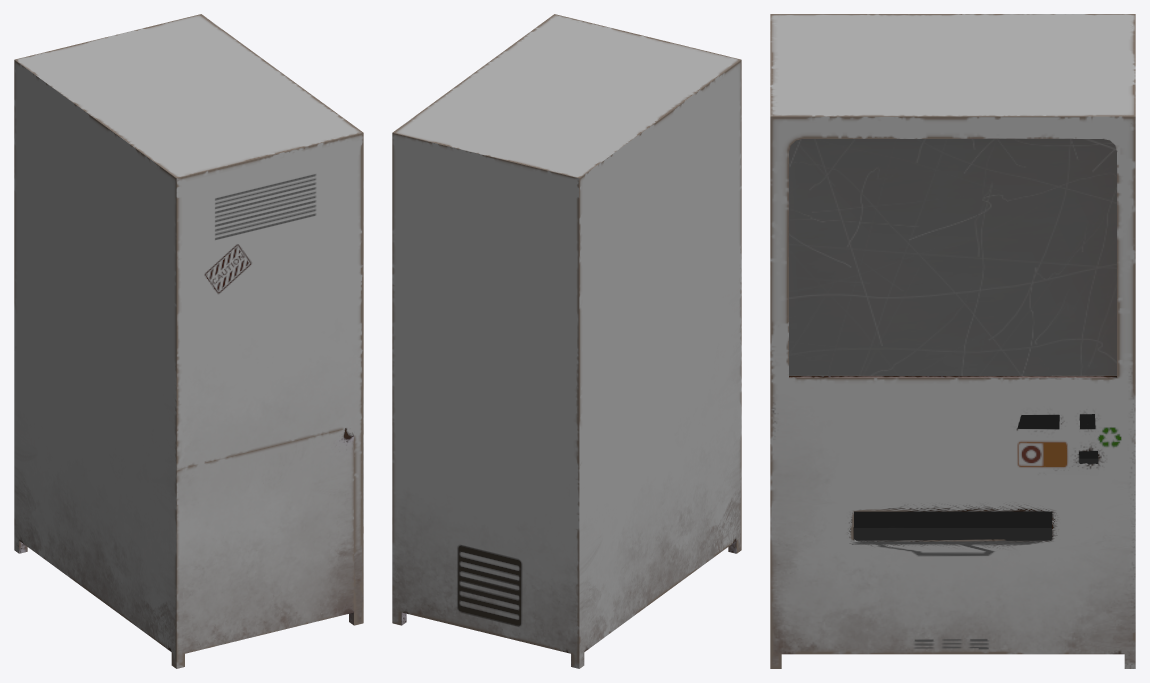
Rendered from Vendingmachine 1.fbx.
3 views of the same model, side by side, from view 1: azimuth 30°, elevation 25°; view 2: azimuth 150°, elevation 25°; view 3: azimuth 270°, elevation 25° (orthographic). The views are drawn at different scales.
Visible parts, largest first — view 1: VendingMachine 1; view 2: VendingMachine 1; view 3: VendingMachine 1.
Part boxes in pixels (x1,y1,x2,y2): VendingMachine 1: [14, 14, 363, 668]; VendingMachine 1: [392, 14, 741, 668]; VendingMachine 1: [770, 14, 1135, 668].
Bounding box in the file's own units: 86.61 × 217 × 130.
